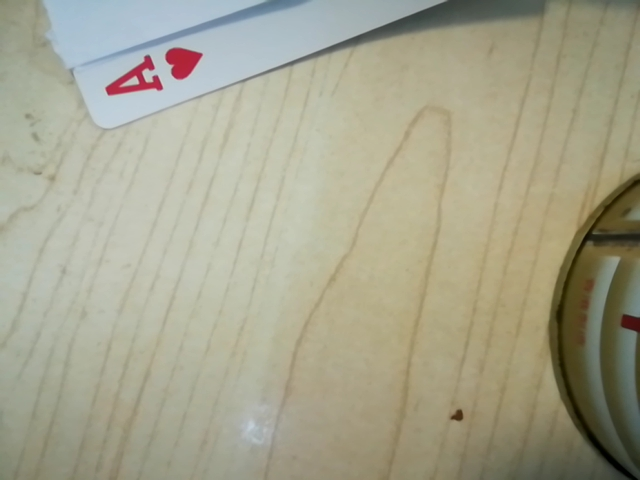hx a: (88, 31, 205, 108)
